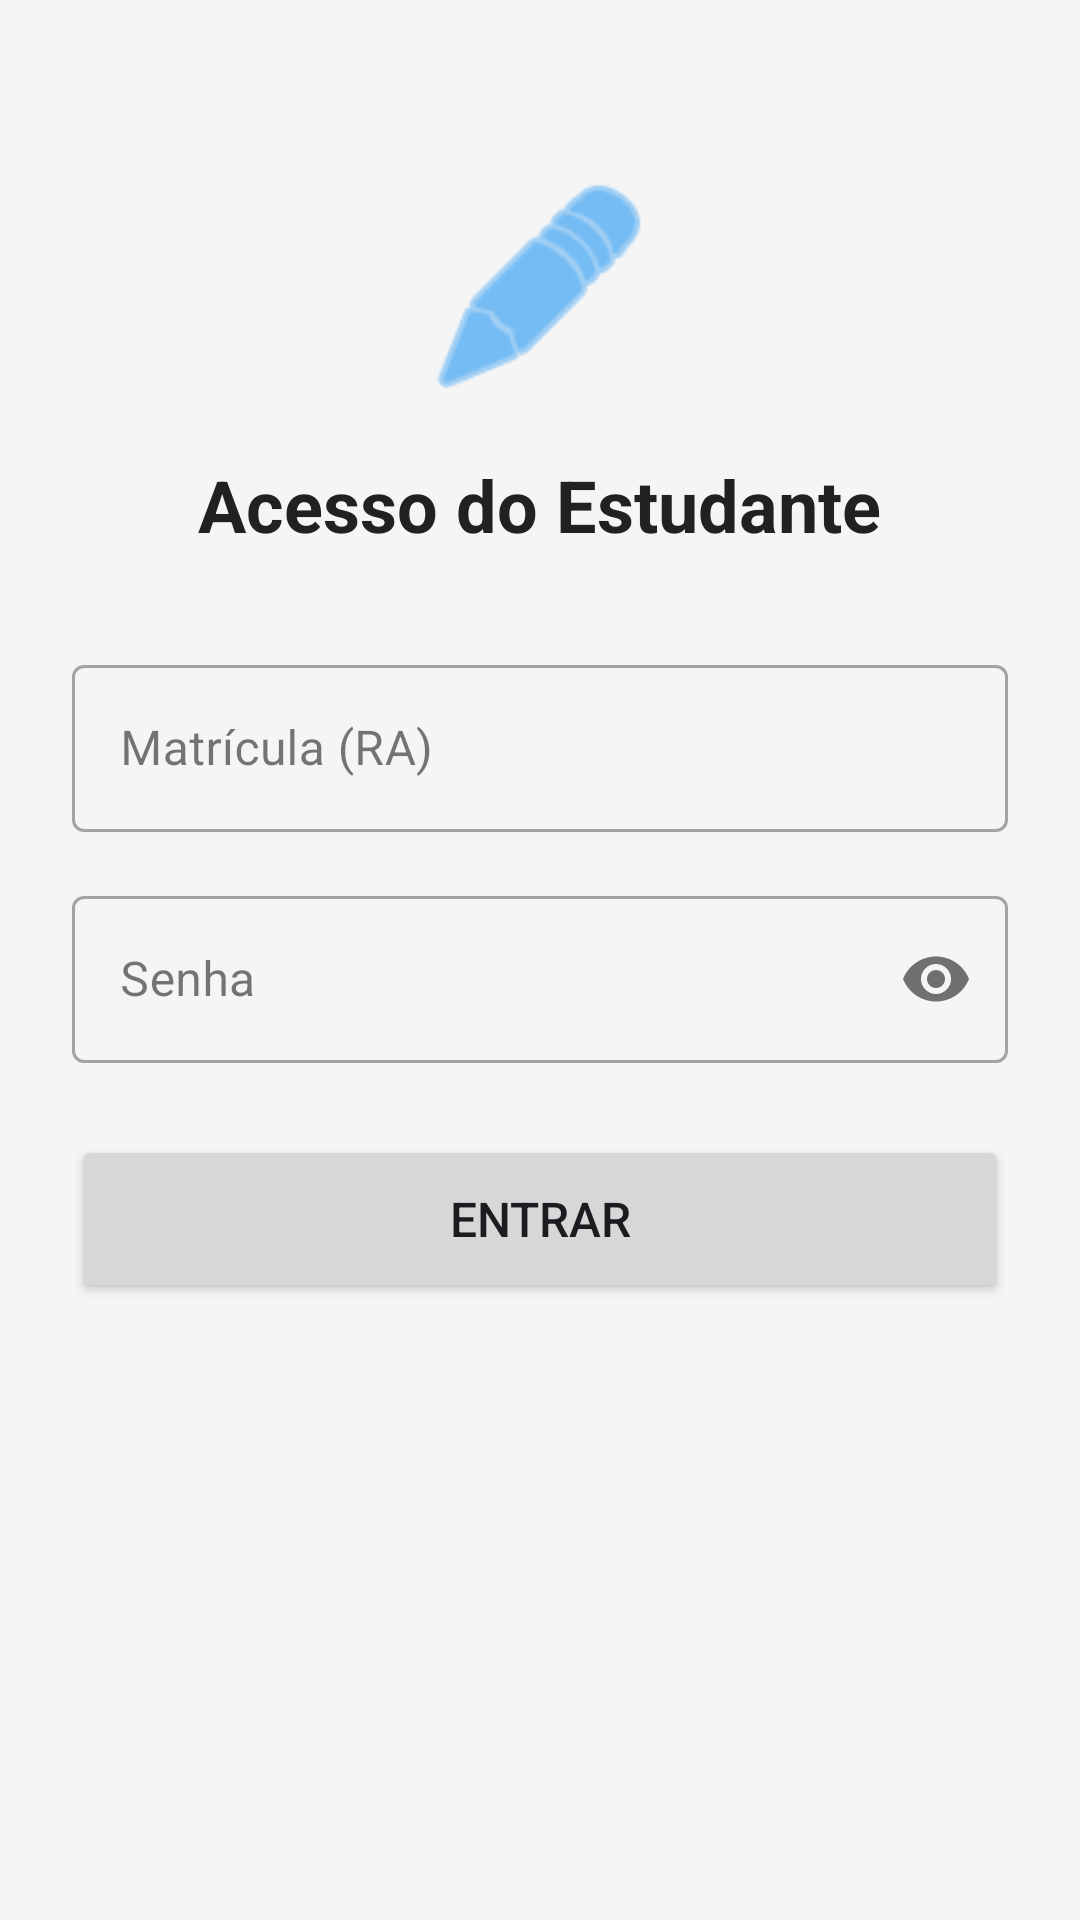

Icons on this 1080x1920 Android screen, each with its box as (x1, y1, x2, y2):
edit: (437, 185, 641, 388)
